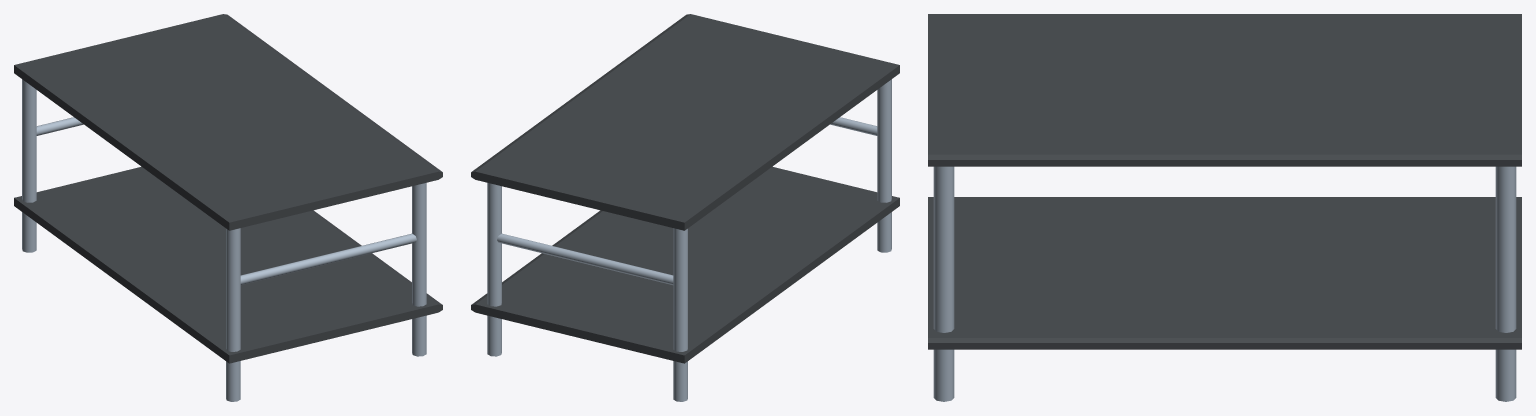
File: SM_table_fd_01.fbx
3 renders of one model, left to right at view 1: azimuth 30°, elevation 25°; view 2: azimuth 150°, elevation 25°; view 3: azimuth 270°, elevation 25°, orthographic. The views are drawn at different scales.
Parts seen in each view (by area): view 1: table_fd_01; view 2: table_fd_01; view 3: table_fd_01.
Boxes of the visible parts, box(x1,y1,x2,y2) form: table_fd_01: box(14, 14, 442, 401); table_fd_01: box(471, 14, 899, 401); table_fd_01: box(928, 14, 1521, 401).
Size of the model in its own units: 150 by 122 by 261.
